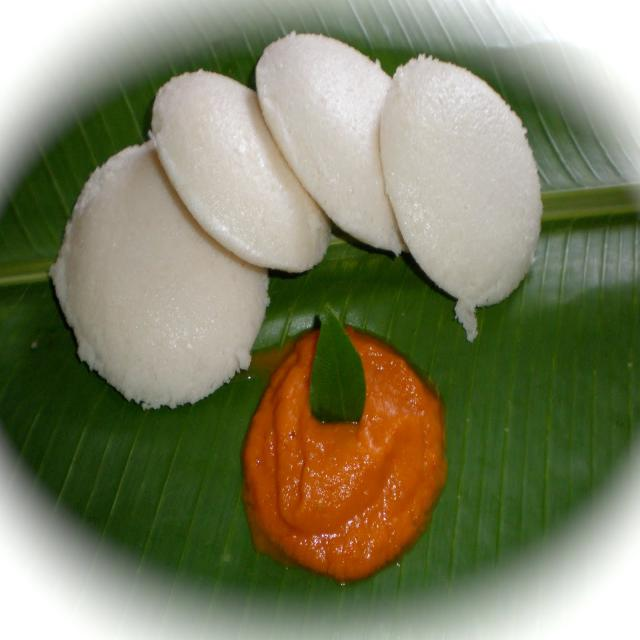chutney: (271, 322, 447, 560)
sambhar: (105, 25, 528, 339)
